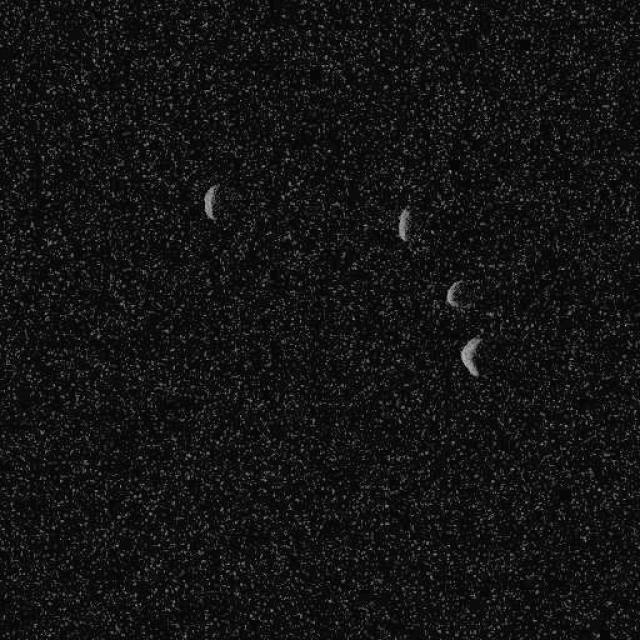D2: (443, 279, 478, 310), (458, 335, 482, 377), (202, 182, 220, 222), (396, 206, 412, 242)
